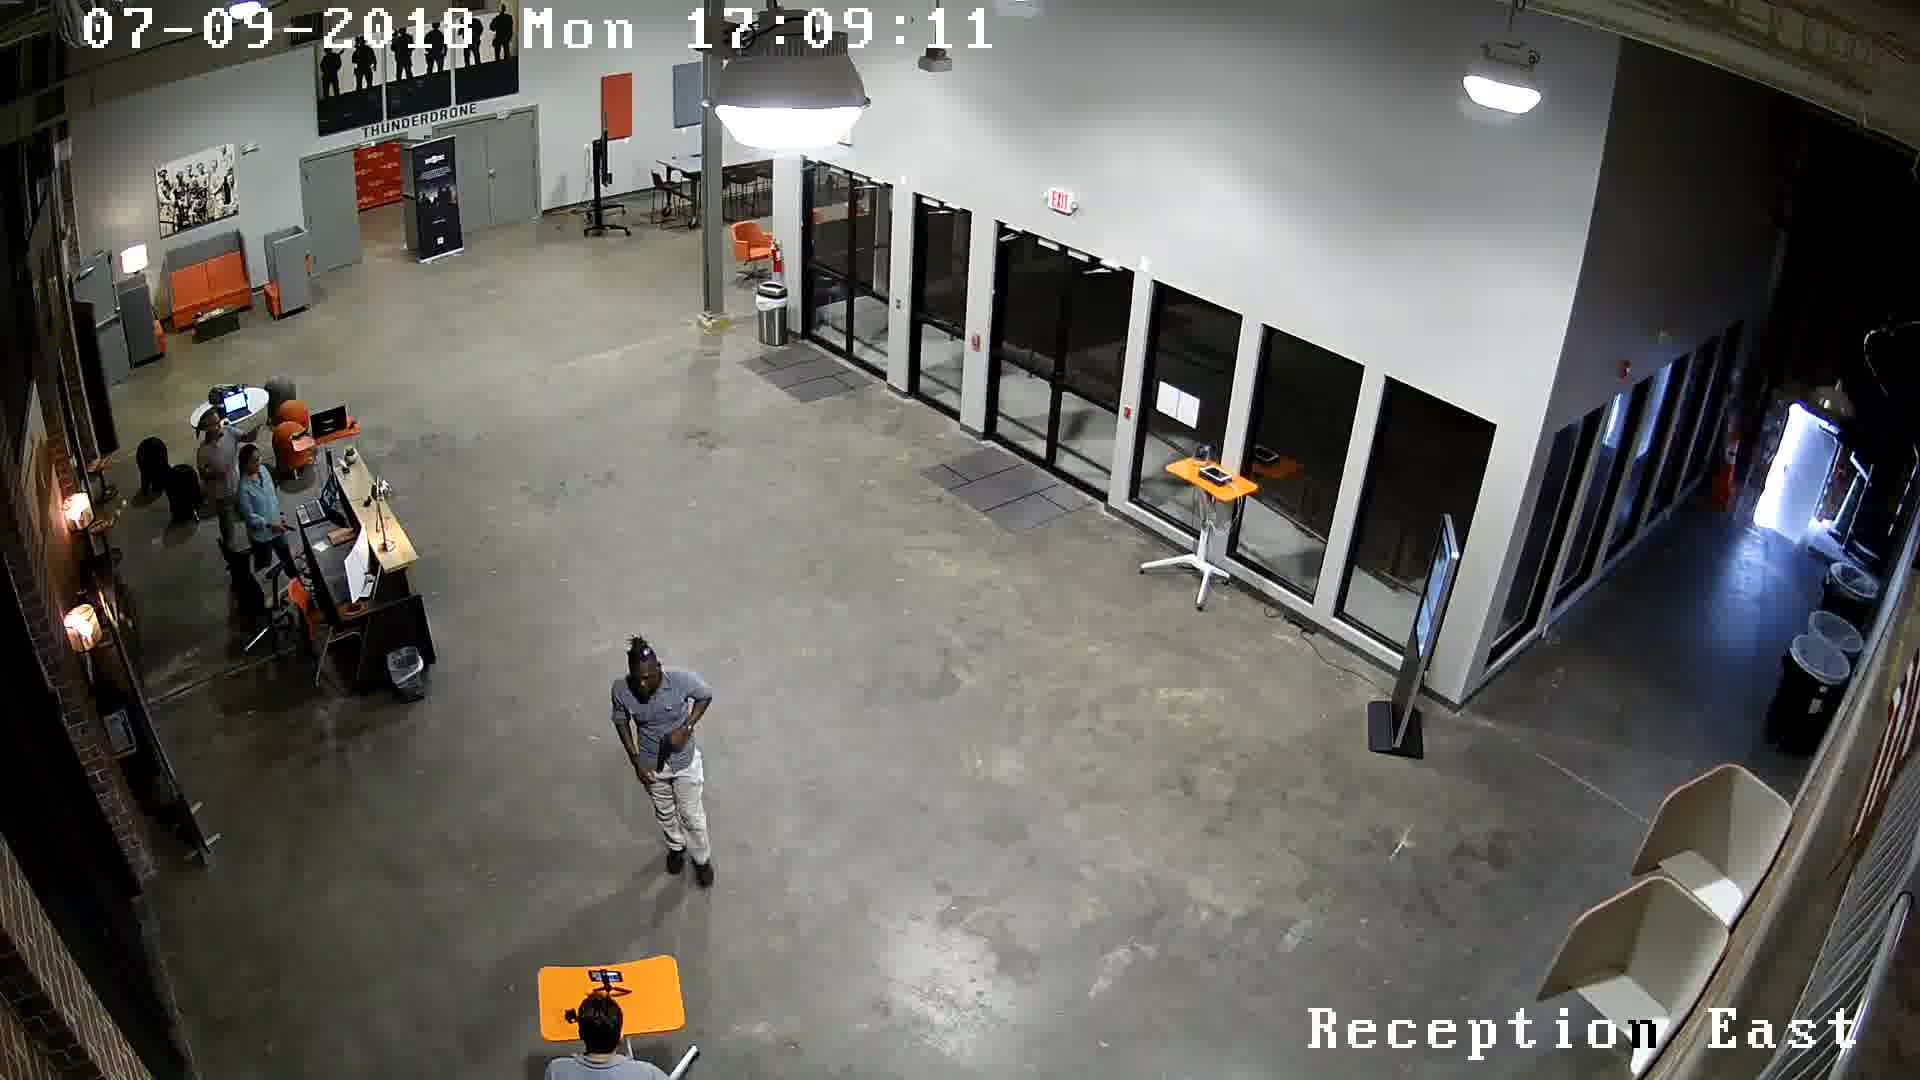pistol: (634, 720, 702, 793)
